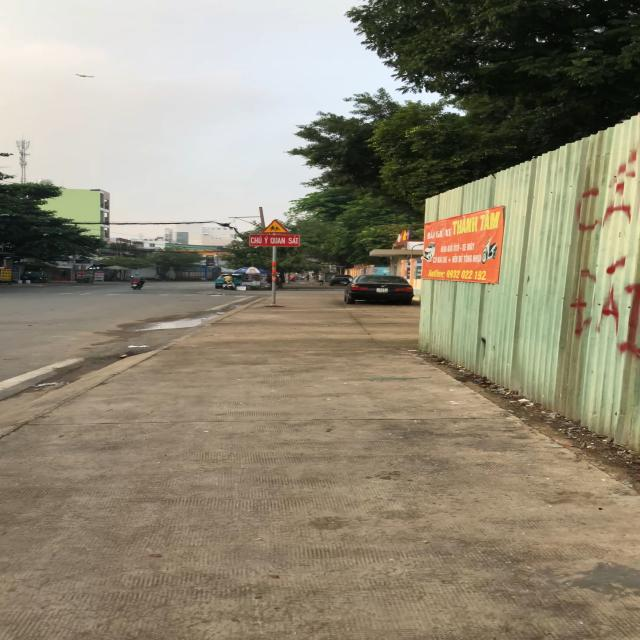Bien bao tre em: (261, 217, 293, 234)
